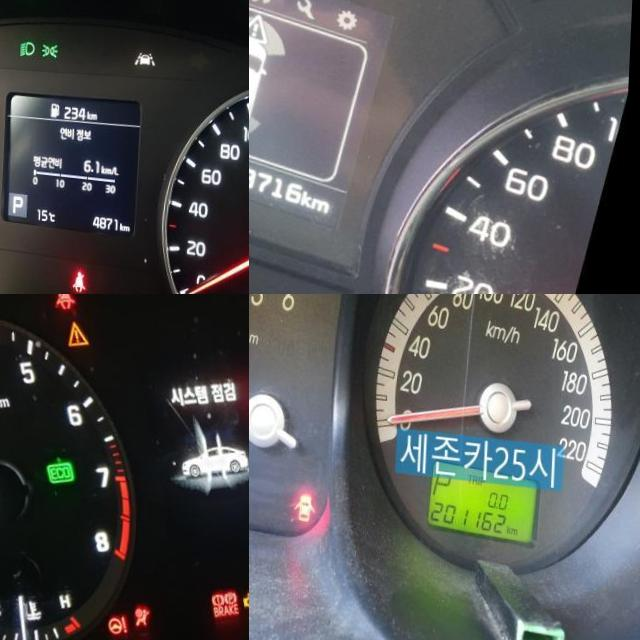Central Warning lamp: (63, 313, 91, 345)
Doors: (297, 488, 318, 518)
LaneCenteringOff: (136, 40, 156, 56)
Low beam: (20, 32, 36, 50)
SideLamp: (43, 33, 59, 50)
